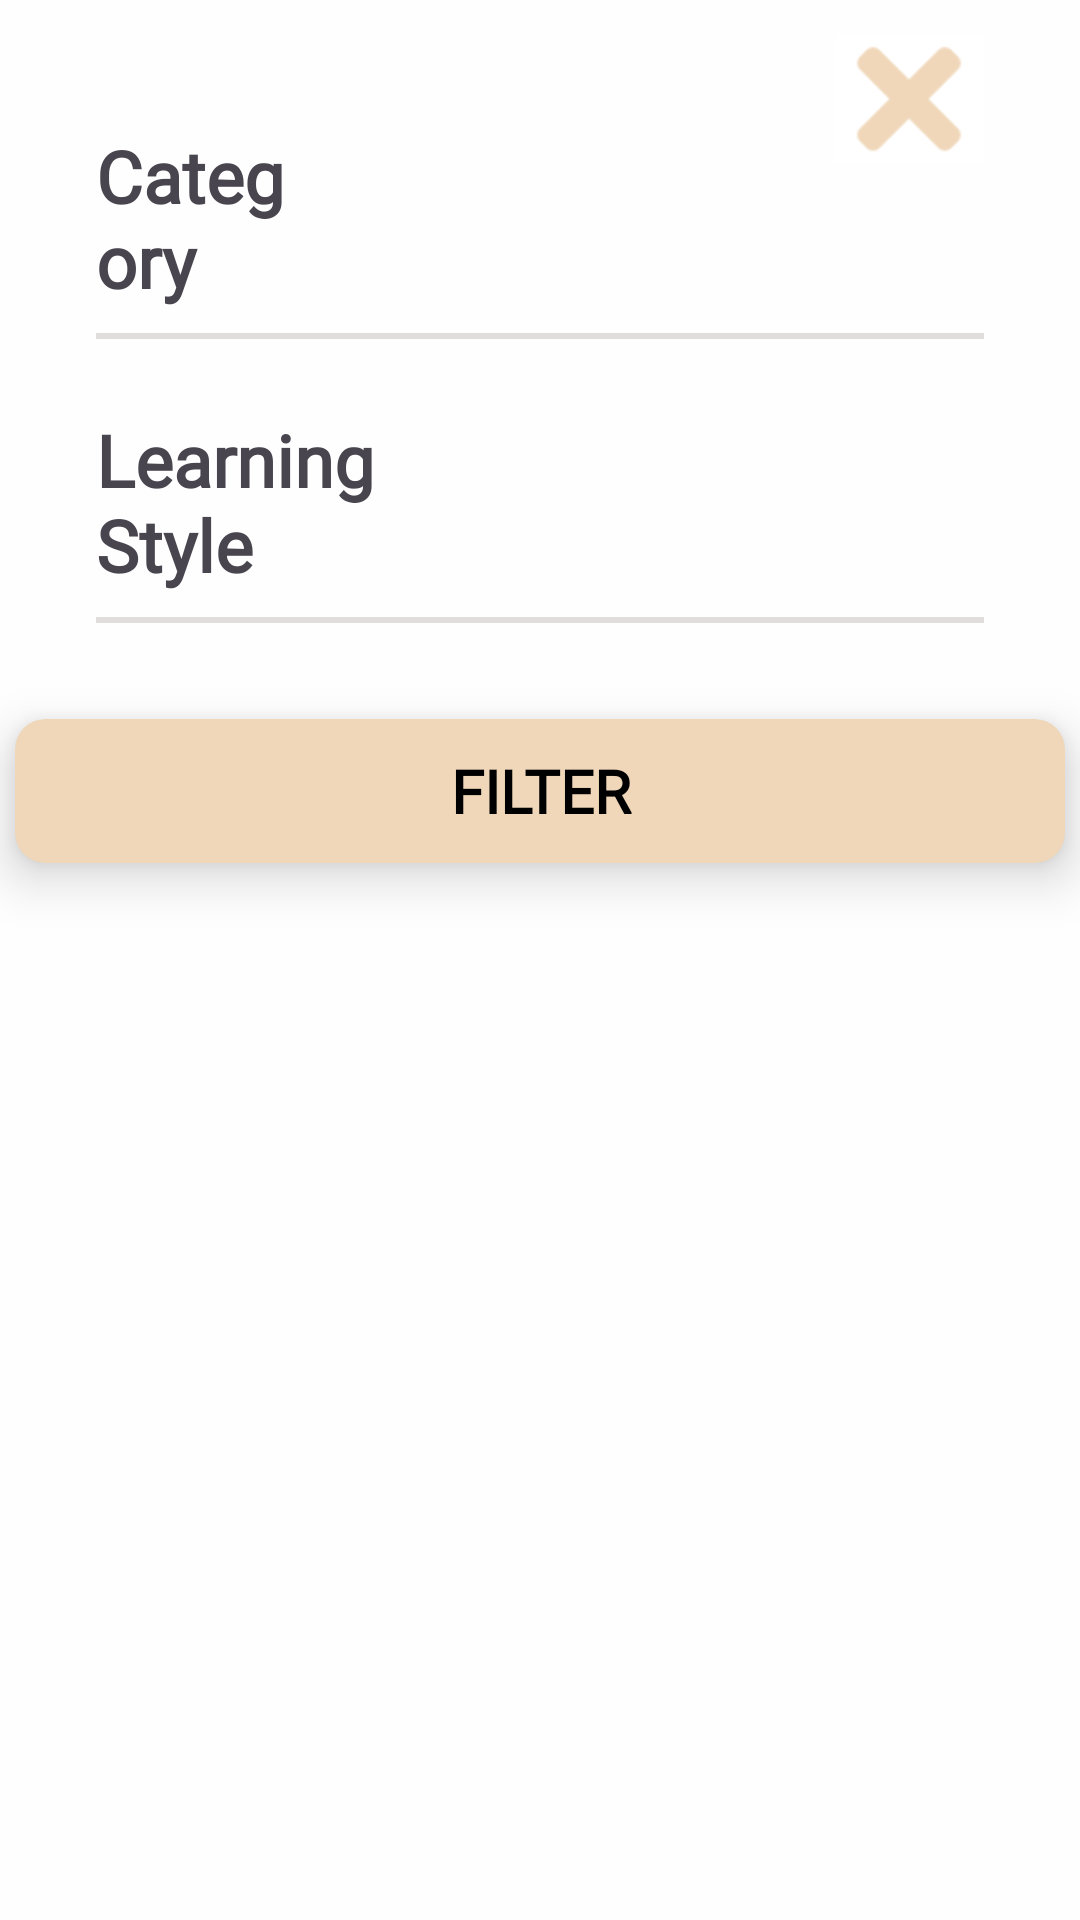

Icons on this 1080 × 1920 Android screen, each with its box as (x1, y1, x2, y2):
cross: (857, 47, 961, 151)
